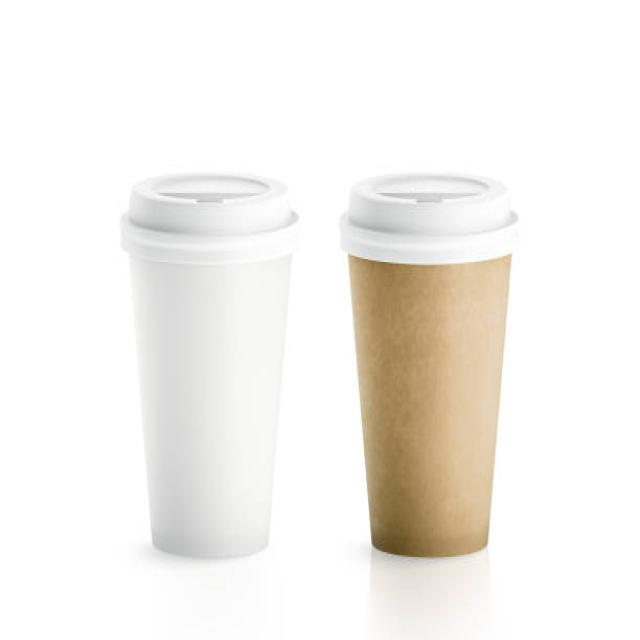cup: (334, 168, 527, 568), (118, 164, 304, 565)
